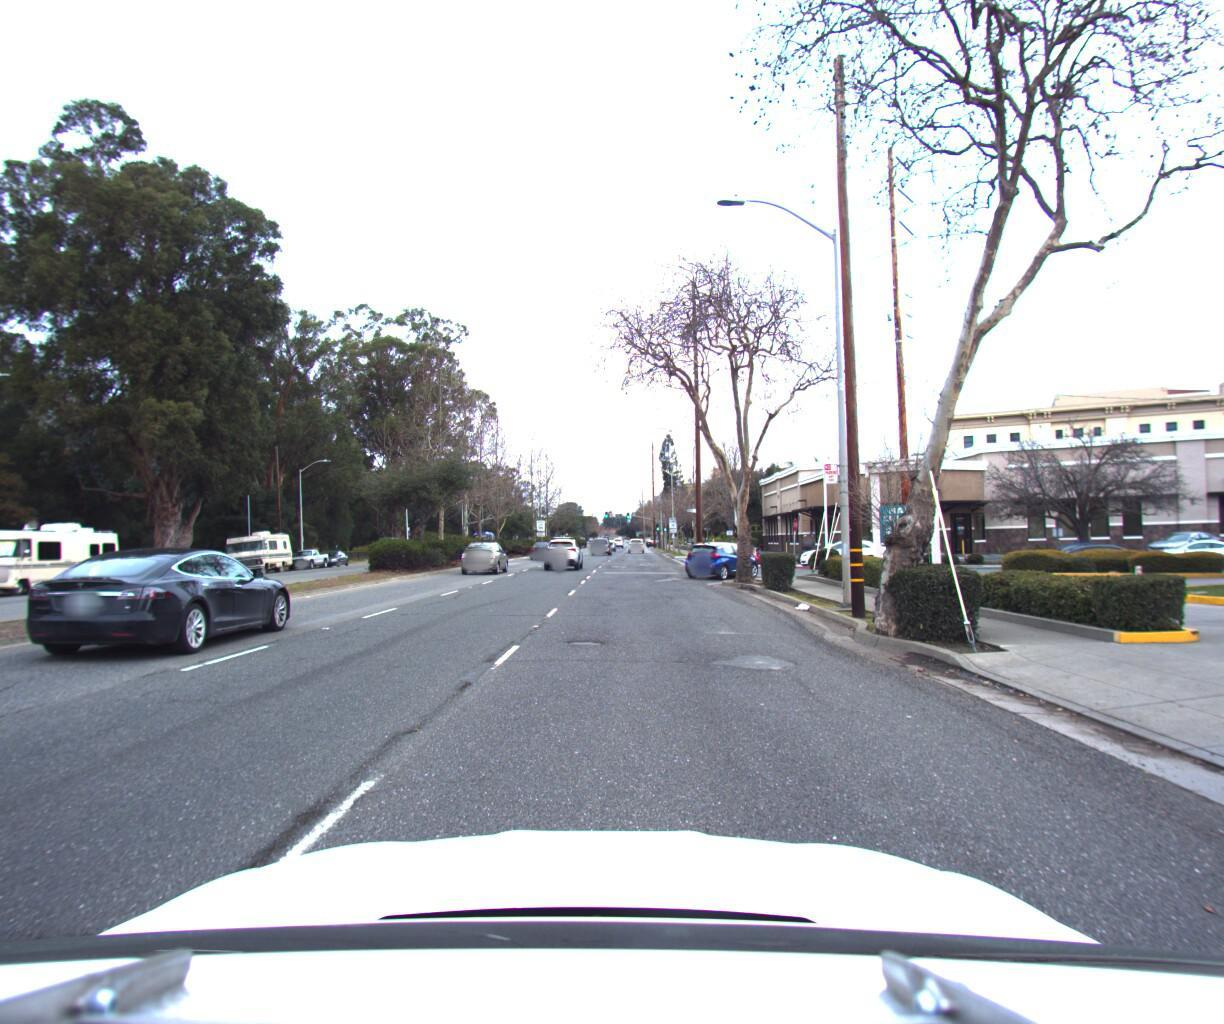car: (11, 536, 305, 662), (678, 532, 768, 573), (795, 528, 900, 562), (1142, 527, 1224, 562), (1133, 521, 1224, 551), (681, 532, 767, 561), (465, 532, 522, 567), (544, 528, 587, 563), (285, 540, 328, 563), (592, 528, 613, 546)
other_vehicle: (0, 516, 134, 595), (218, 520, 301, 570)
